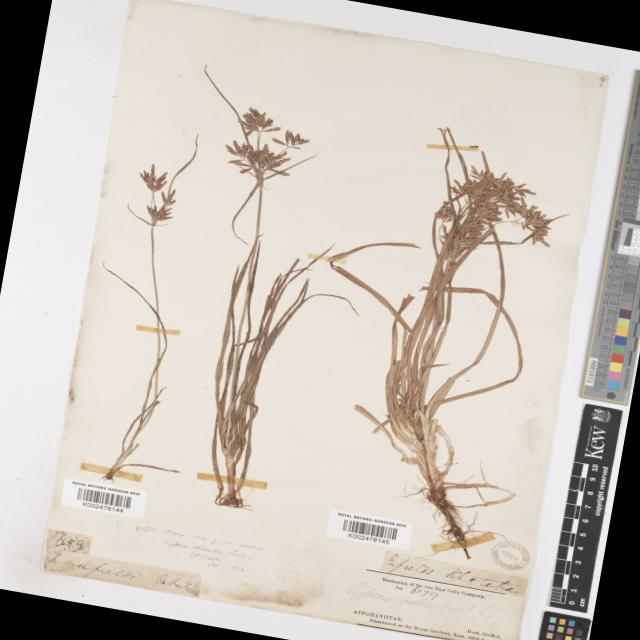cyperus: (407, 141, 568, 274), (205, 97, 304, 178), (124, 160, 189, 228)
